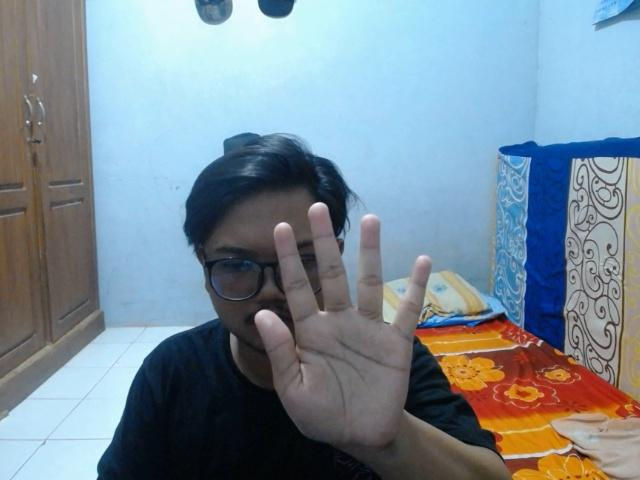Release: (250, 199, 436, 457)
